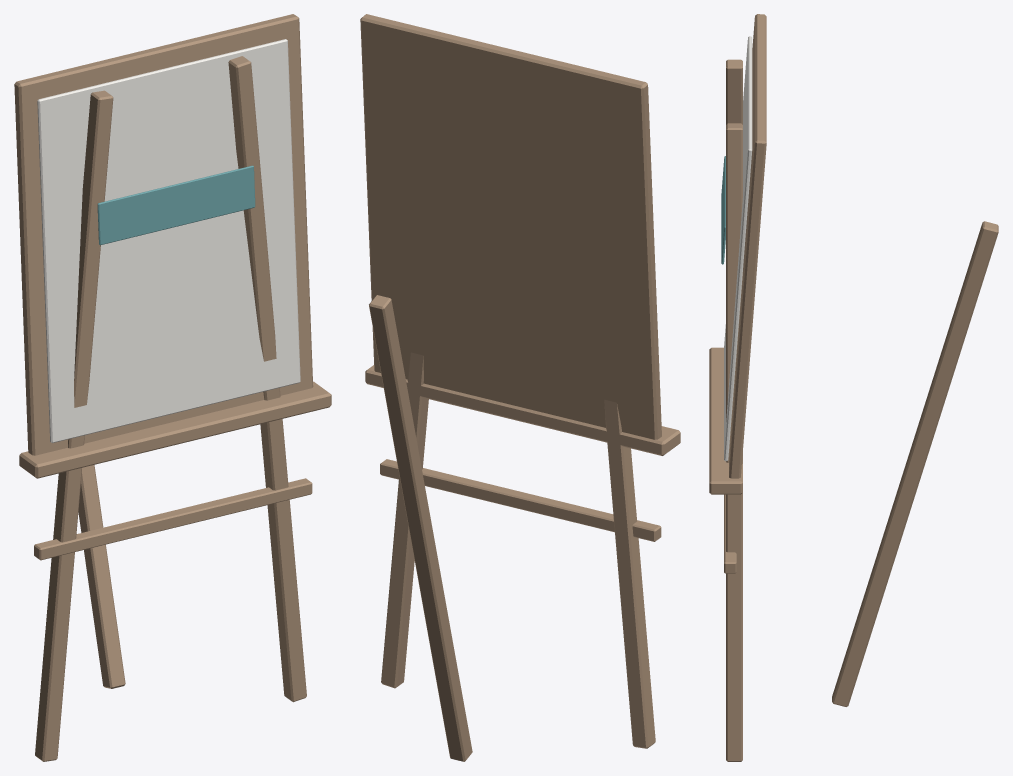
Rendered from hotel-and-resort-operations-signage-easel-2ebbfca6__25924.glb.
The picture shows the model from 3 angles, left to right: view 1: azimuth 30°, elevation 25°; view 2: azimuth 150°, elevation 25°; view 3: azimuth 270°, elevation 25°; orthographic projection. The views are drawn at different scales.
Visible parts, largest first — view 1: signage-easel; view 2: signage-easel; view 3: signage-easel.
Boxes of the visible parts, <box> form: signage-easel: <box>14,14,331,761</box>; signage-easel: <box>360,14,680,761</box>; signage-easel: <box>709,14,998,761</box>.
Bounding box in the file's own units: 0.7599 × 1.64 × 0.6873.
